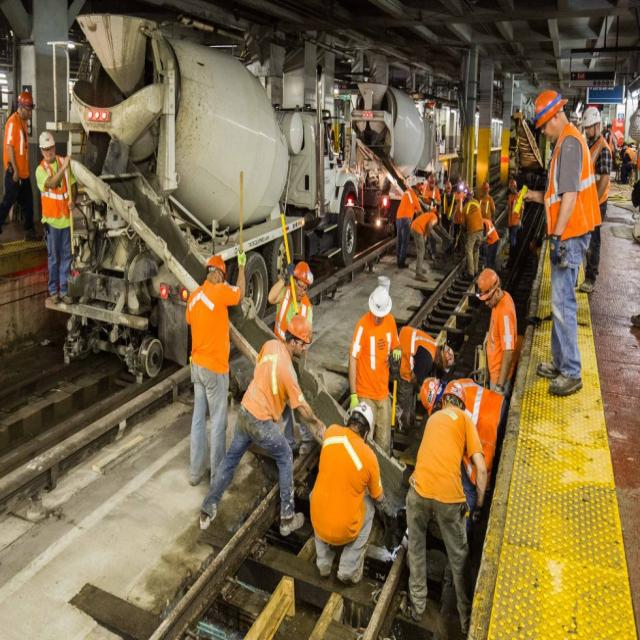body: (197, 313, 328, 538), (511, 87, 603, 398), (404, 377, 489, 638), (184, 246, 248, 487), (306, 398, 388, 586), (417, 370, 511, 530), (346, 284, 404, 461), (266, 258, 316, 456), (33, 126, 79, 306), (473, 268, 518, 436), (0, 88, 46, 247), (396, 325, 454, 449), (579, 106, 613, 295), (394, 182, 424, 270), (408, 207, 442, 282), (460, 194, 484, 280), (505, 176, 525, 264), (439, 178, 458, 240), (482, 218, 500, 270), (619, 140, 639, 186), (477, 180, 497, 222), (421, 174, 442, 214), (597, 120, 616, 154)
